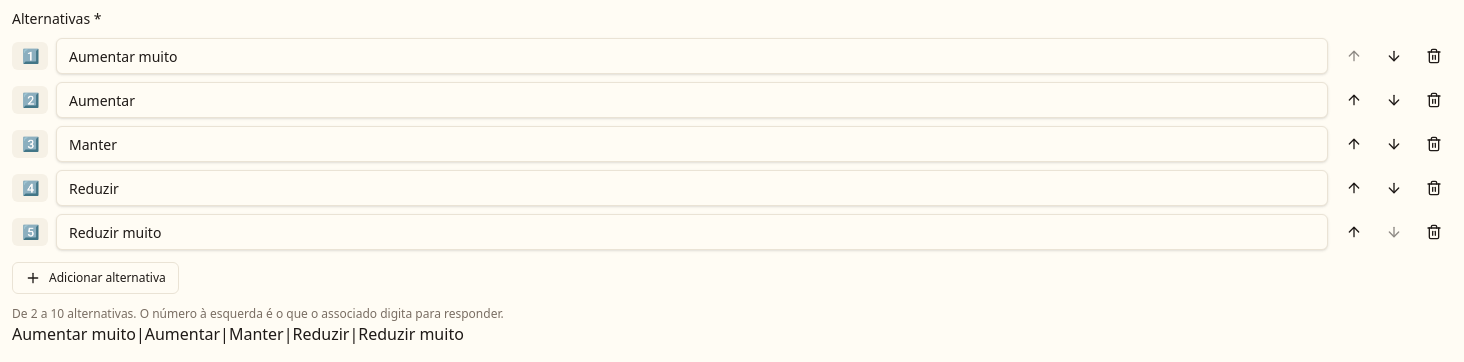
it: reordenação (§17) › ⚠️ DOIS MOVIMENTOS SEGUIDOS não perdem o primeiro
Click the button named "mover \"Manter\" para cima". click: (1354, 144)
box: [1336, 126, 1372, 162]
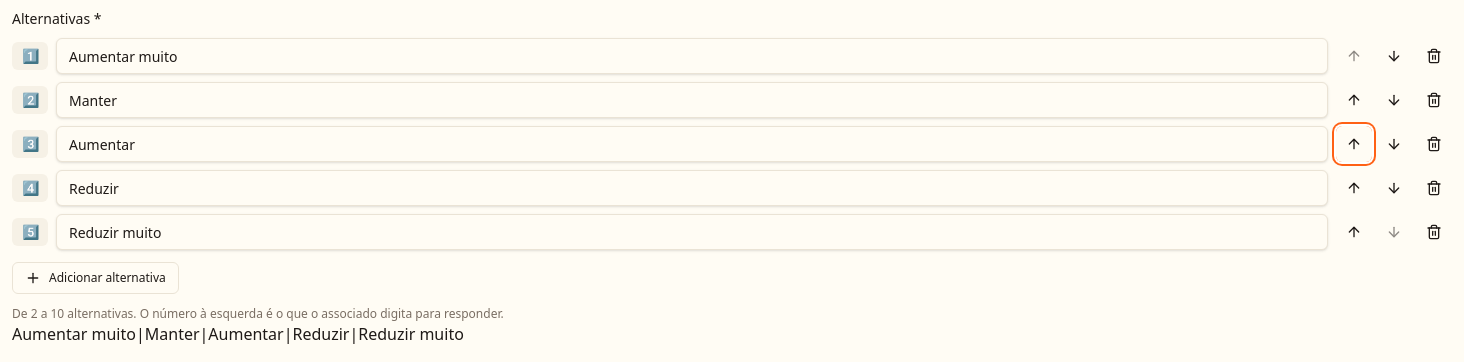
Click the button named "mover \"Manter\" para cima". click: (1354, 100)
box: [1336, 82, 1372, 118]
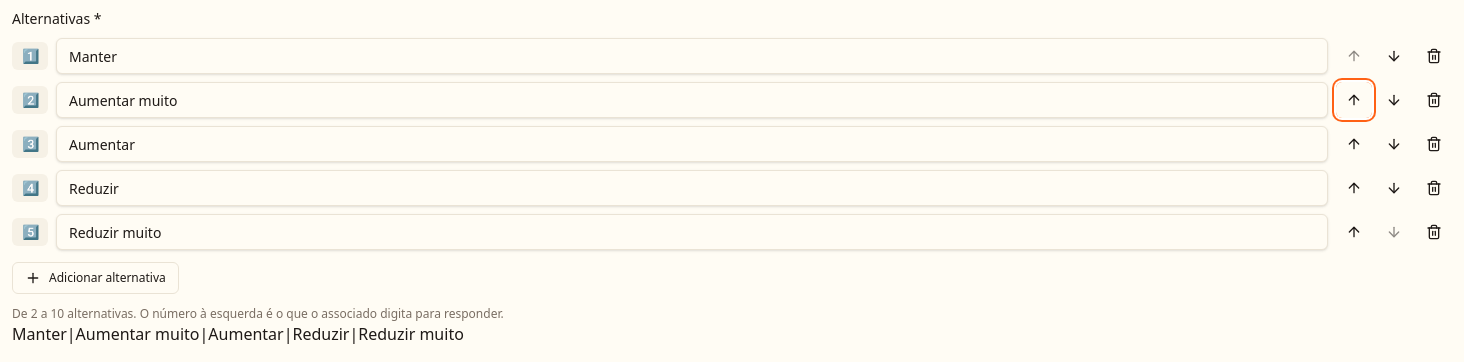
Check: the text with test id "ordem" reads "Manter|Aumentar muito|Aumentar|Reduzir|Reduzir muito", box [12, 323, 464, 345]
